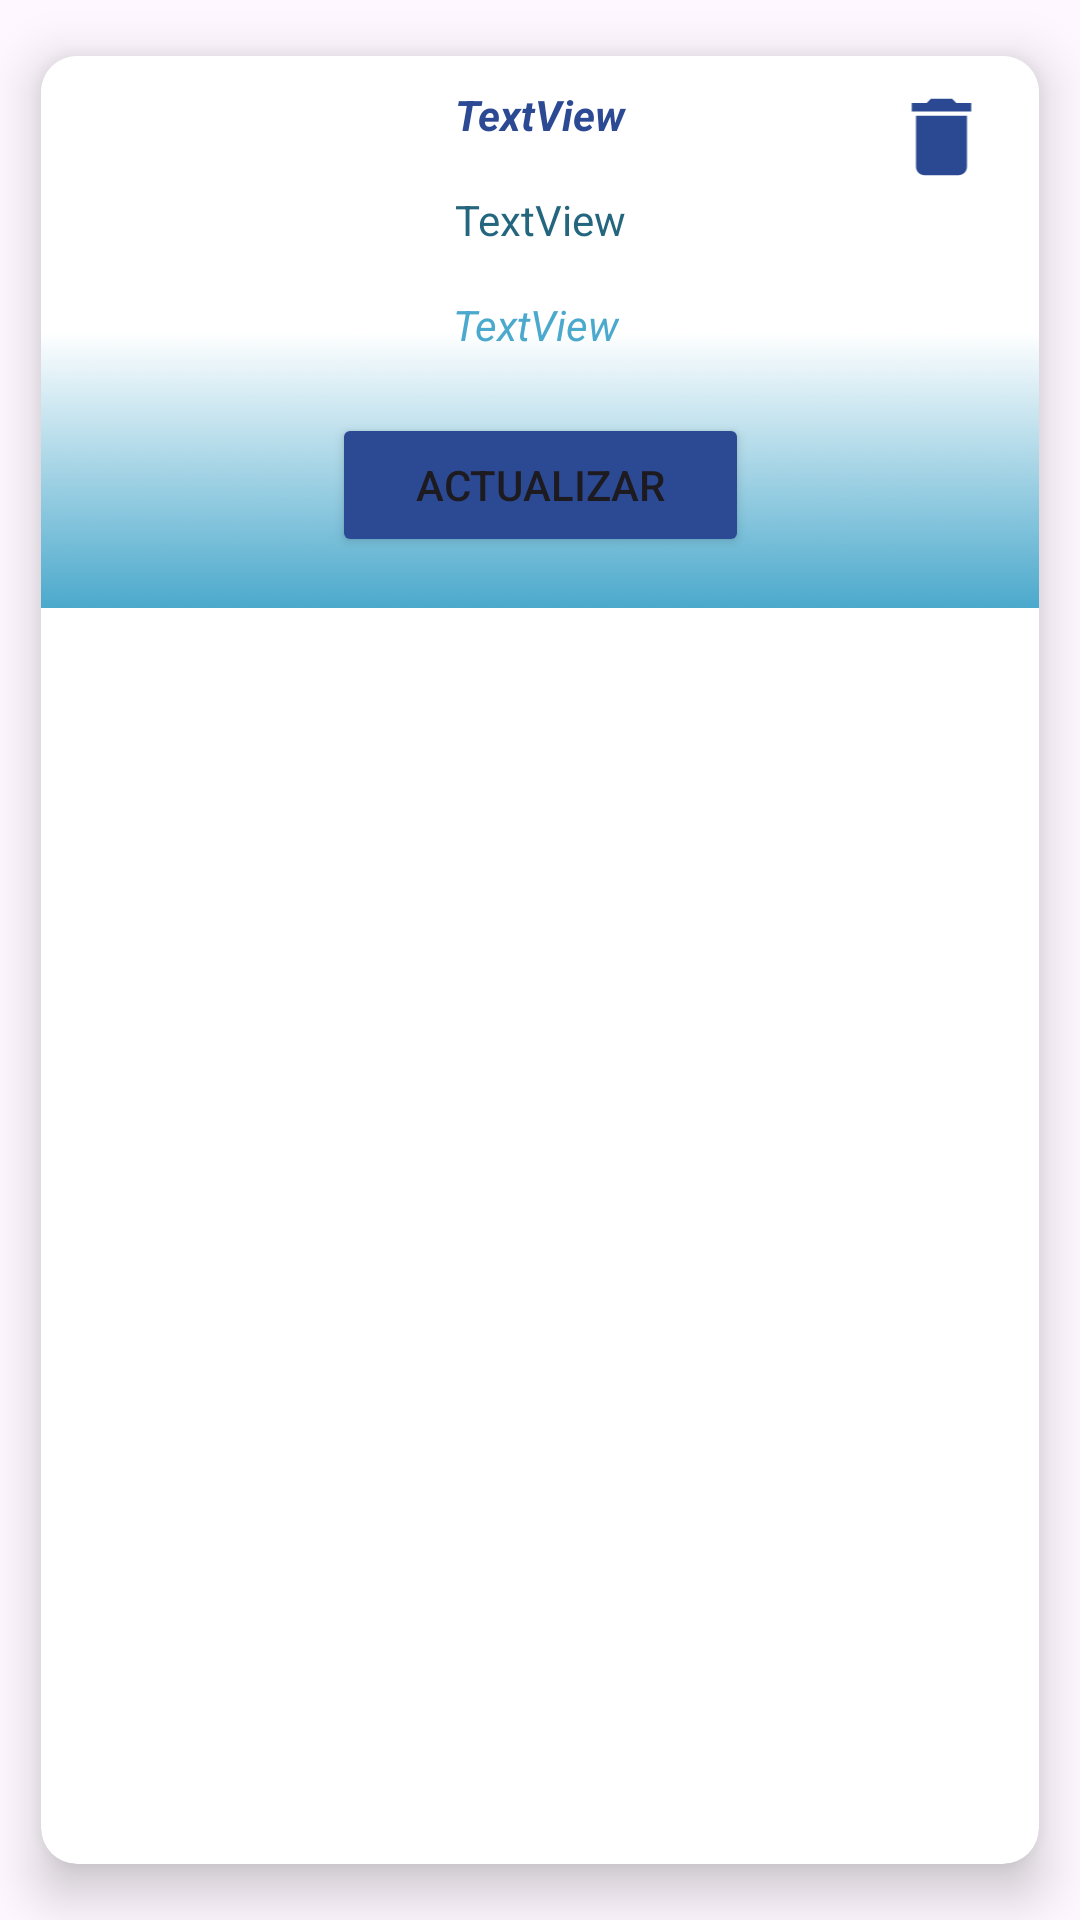

Named icons in this screenshot (1080 x 1920) and their centers, (x,y):
delete: (941,137)
